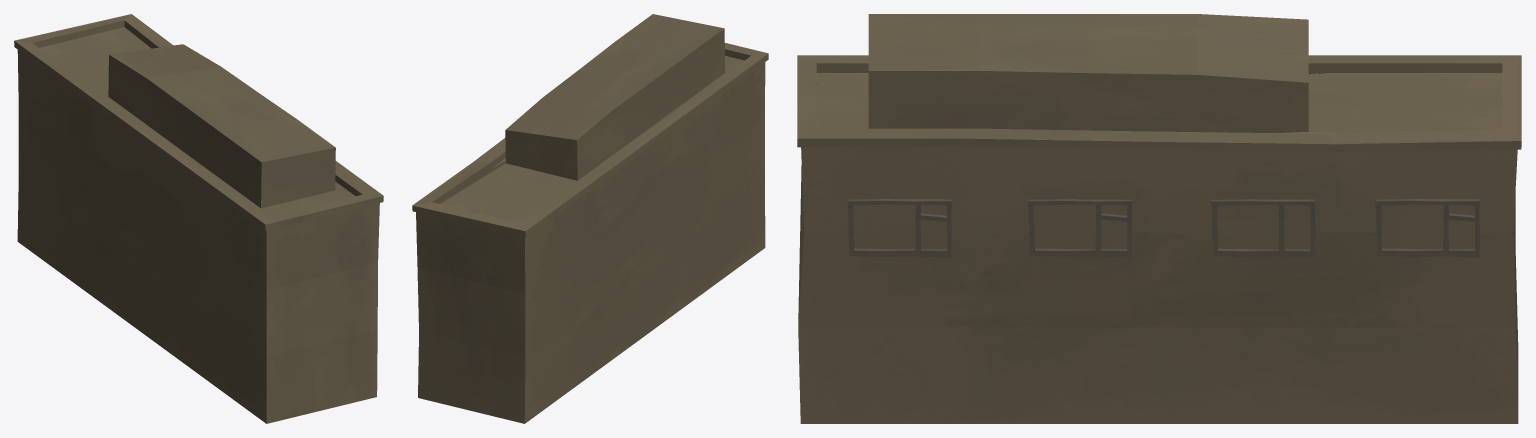
Rendered from Zavod-corpus.fbx.
3 renders of one model, left to right at view 1: azimuth 30°, elevation 25°; view 2: azimuth 150°, elevation 25°; view 3: azimuth 270°, elevation 25°, orthographic. The views are drawn at different scales.
Parts seen in each view (by area): view 1: Cube.086; view 2: Cube.086; view 3: Cube.086.
Boxes of the visible parts, bbox=[...] form: Cube.086: bbox=[14, 14, 383, 423]; Cube.086: bbox=[412, 14, 768, 423]; Cube.086: bbox=[797, 14, 1521, 423].
Bounding box in the file's own units: 299 × 579 × 1102.
